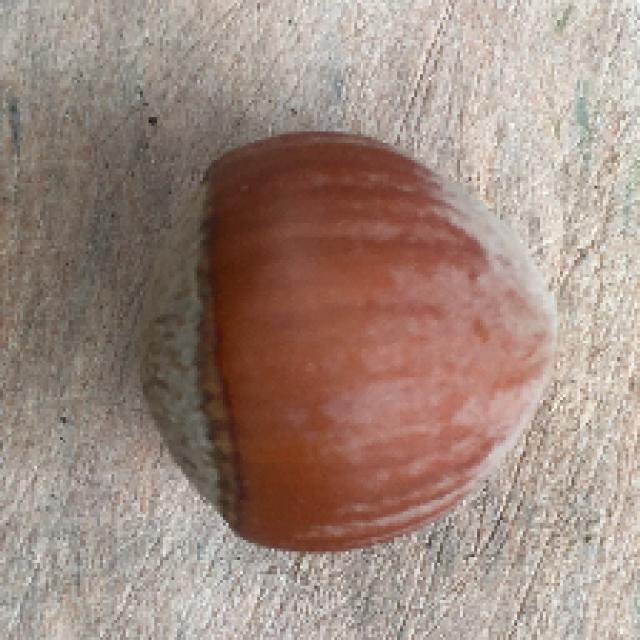QualityHazelnut: (137, 129, 560, 554)
